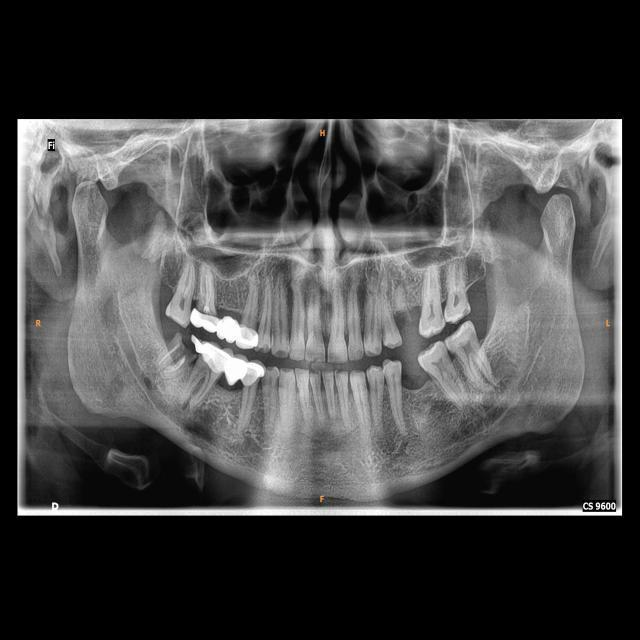dentin-curugu: (172, 328, 201, 363)
kanal-tedavisi: (153, 339, 180, 370), (163, 351, 189, 377)
kaplama: (194, 337, 234, 381), (239, 356, 270, 392), (189, 303, 221, 336), (234, 320, 262, 353)
kopru: (216, 350, 253, 394), (210, 305, 246, 350)
